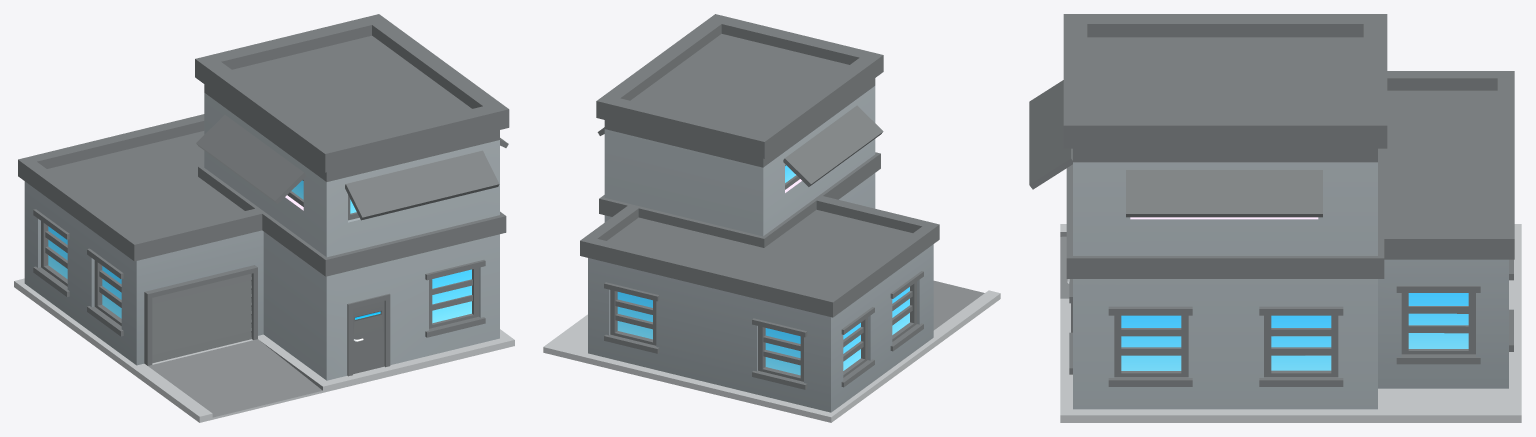
File: Building_Institution_01.glb
3 renders of one model, left to right at view 1: azimuth 30°, elevation 25°; view 2: azimuth 150°, elevation 25°; view 3: azimuth 270°, elevation 25°, orthographic. The views are drawn at different scales.
Parts seen in each view (by area): view 1: Building_Institution_01; view 2: Building_Institution_01; view 3: Building_Institution_01.
Part boxes in pixels (x1,y1,x2,y2): Building_Institution_01: (14,14,514,422); Building_Institution_01: (543,14,1000,422); Building_Institution_01: (1029,14,1521,422).
Bounding box in the file's own units: 11.32 × 7.64 × 11.57.
1 material, 1 textured.
